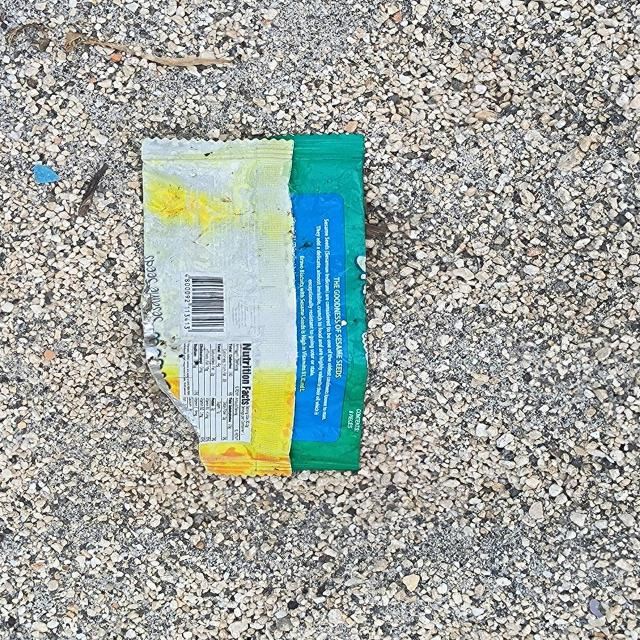plastic_waste: (139, 132, 373, 476)
